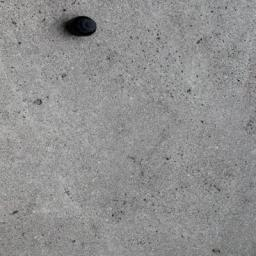FOD: (64, 12, 101, 41)
